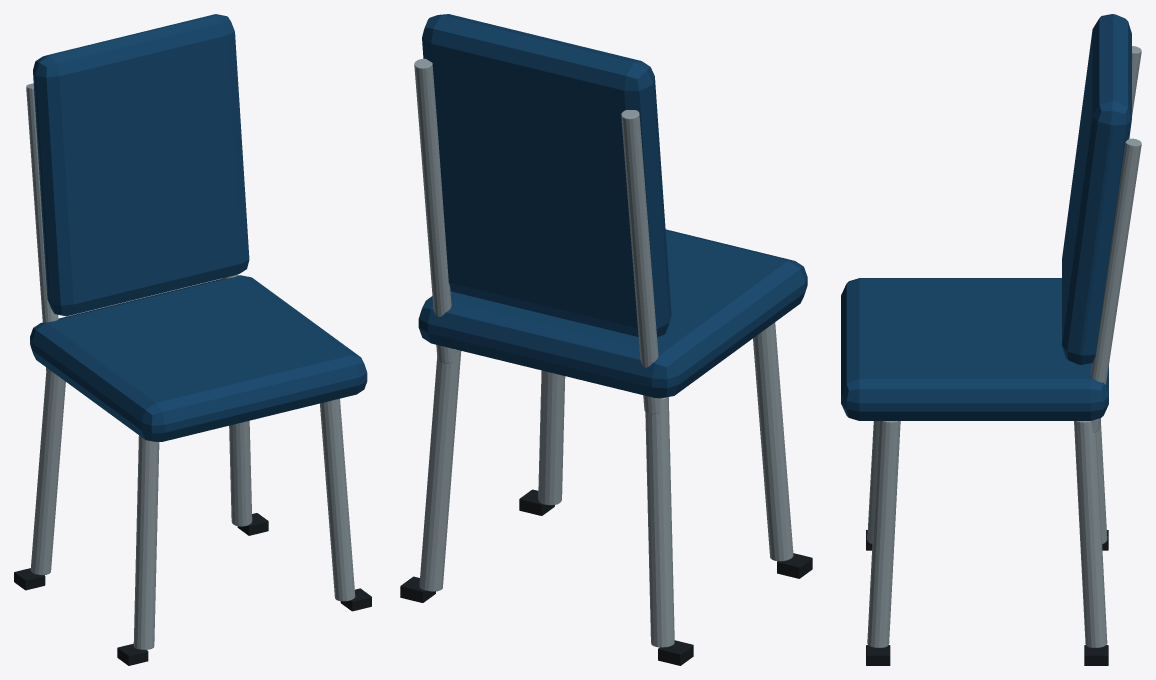
The model's file is edited.glb.
3 views of the same model, side by side, from view 1: azimuth 30°, elevation 25°; view 2: azimuth 150°, elevation 25°; view 3: azimuth 270°, elevation 25° (orthographic). The views are drawn at different scales.
Parts seen in each view (by area): view 1: BACK, SEAT, LEG, LEG.002, LEG.001, LEG.003, BACK_Support.001; view 2: BACK, SEAT, LEG.001, LEG.003, LEG, BACK_Support.001, BACK_Support, LEG.002, FOOT_Pad.001, FOOT_Pad; view 3: SEAT, BACK, LEG.002, LEG.003, BACK_Support, LEG, LEG.001, FOOT_Pad.002, FOOT_Pad.003.
Part boxes in pixels (x1,y1,x2,y2): BACK: [33, 14, 249, 316]; SEAT: [30, 275, 367, 441]; LEG: [133, 435, 159, 649]; LEG.002: [320, 398, 355, 601]; LEG.001: [30, 368, 65, 575]; LEG.003: [229, 420, 252, 526]; BACK_Support.001: [26, 83, 58, 370]; BACK: [422, 14, 671, 336]; SEAT: [418, 229, 807, 398]; LEG.001: [645, 397, 674, 647]; LEG.003: [419, 349, 461, 591]; LEG: [753, 322, 793, 561]; BACK_Support.001: [621, 110, 661, 414]; BACK_Support: [414, 58, 454, 363]; LEG.002: [538, 370, 565, 505]; FOOT_Pad.001: [658, 640, 693, 665]; FOOT_Pad: [777, 553, 812, 578]; SEAT: [841, 278, 1108, 420]; BACK: [1062, 14, 1131, 364]; LEG.002: [867, 421, 900, 647]; LEG.003: [1074, 421, 1107, 647]; BACK_Support: [1090, 138, 1141, 432]; LEG: [867, 421, 878, 543]; LEG.001: [1096, 420, 1107, 543]; FOOT_Pad.002: [866, 645, 890, 665]; FOOT_Pad.003: [1084, 645, 1108, 665].
Size of the model in its own units: 0.488 by 0.9886 by 0.4937.
